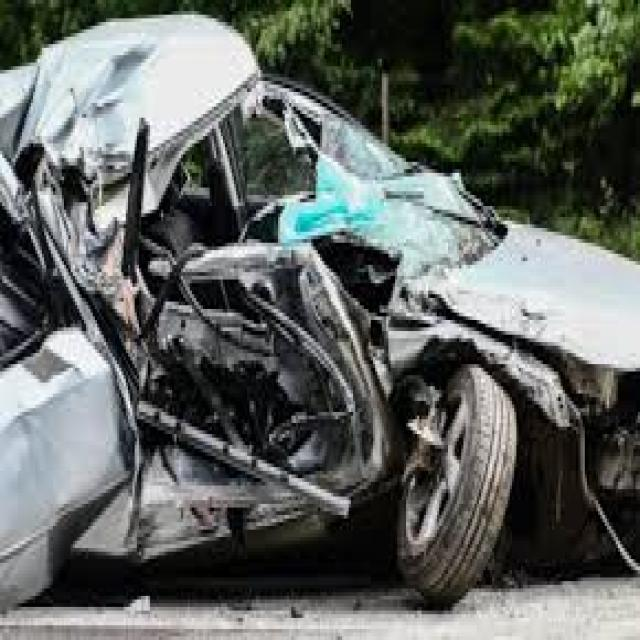car-serious-accident: (7, 36, 638, 634)
